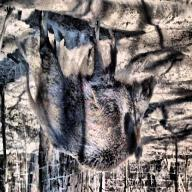boar: (12, 12, 158, 179)
